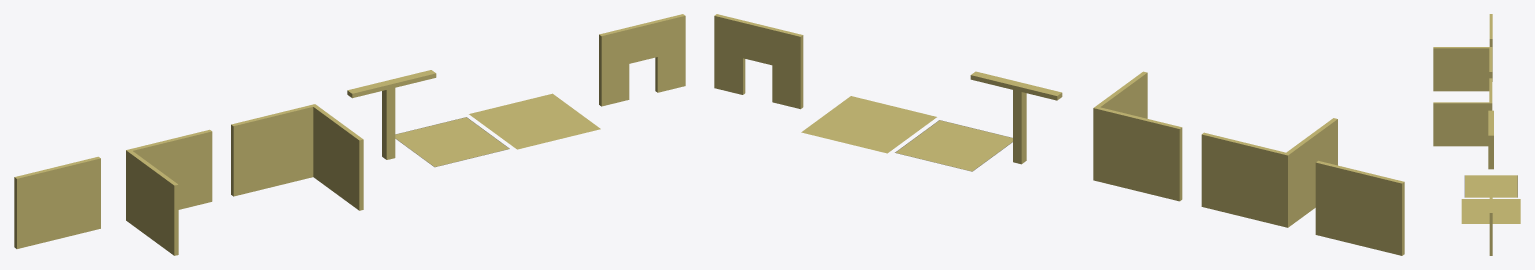
Rendered from Building.fbx.
The picture shows the model from 3 angles, left to right: view 1: azimuth 30°, elevation 25°; view 2: azimuth 150°, elevation 25°; view 3: azimuth 270°, elevation 25°; orthographic projection. The views are drawn at different scales.
Visible parts, largest first — view 1: Wall_3, Wall_2, Wall_1, Wall_With_Door, Floor, Ceiling, Column, Beam; view 2: Wall_2, Wall_3, Wall_1, Wall_With_Door, Floor, Ceiling, Column, Beam; view 3: Wall_2, Wall_3, Floor, Ceiling, Wall_With_Door, Column, Beam, Wall_1.
Boxes of the visible parts, x1,y1,x2,y2 form: Wall_3: [231, 104, 363, 210]; Wall_2: [126, 129, 212, 255]; Wall_1: [14, 156, 100, 248]; Wall_With_Door: [599, 14, 685, 106]; Floor: [469, 93, 600, 149]; Ceiling: [395, 117, 509, 167]; Column: [382, 88, 395, 159]; Beam: [347, 70, 436, 98]; Wall_2: [1201, 118, 1337, 227]; Wall_3: [1093, 71, 1182, 201]; Wall_1: [1315, 160, 1404, 255]; Wall_With_Door: [714, 14, 803, 109]; Floor: [801, 96, 936, 153]; Ceiling: [895, 120, 1012, 171]; Column: [1013, 90, 1026, 164]; Beam: [970, 71, 1062, 100]; Wall_2: [1433, 47, 1492, 91]; Wall_3: [1433, 78, 1492, 146]; Floor: [1461, 199, 1520, 223]; Ceiling: [1464, 175, 1517, 197]; Wall_With_Door: [1489, 188, 1492, 255]; Column: [1488, 138, 1493, 169]; Beam: [1488, 110, 1493, 138]; Wall_1: [1489, 14, 1492, 81].
Size of the model in its own units: 3980 by 425 by 740.
